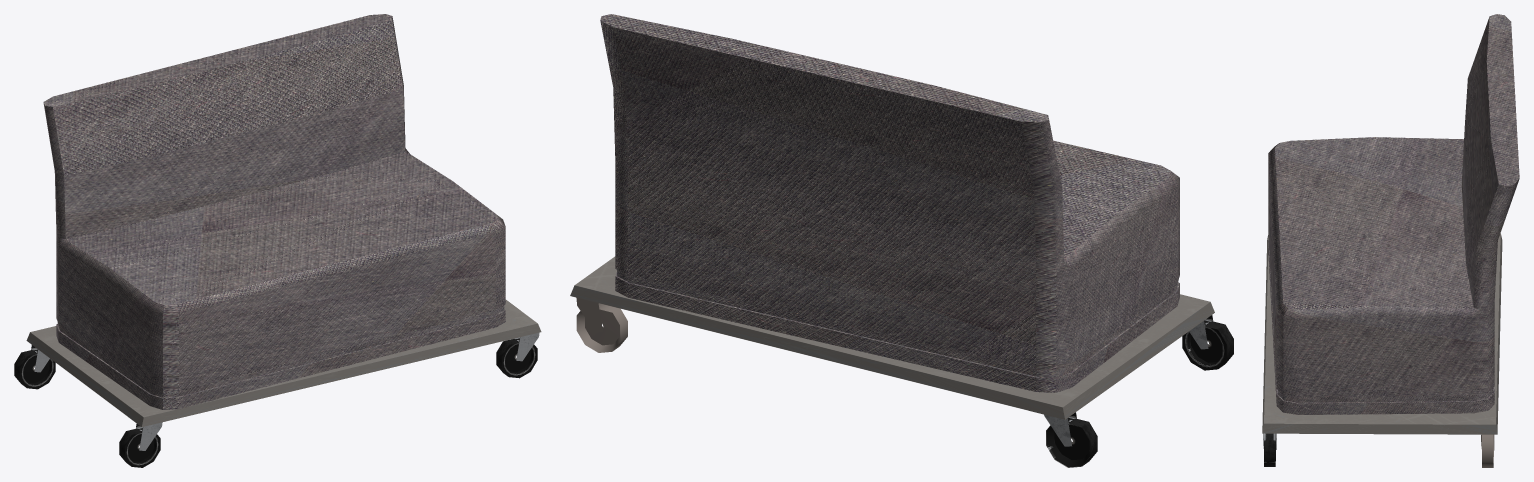
Rendered from sofa 3.fbx.
The picture shows the model from 3 angles, left to right: view 1: azimuth 30°, elevation 25°; view 2: azimuth 150°, elevation 25°; view 3: azimuth 270°, elevation 25°; orthographic projection. The views are drawn at different scales.
Parts seen in each view (by area): view 1: sofa3; view 2: sofa3; view 3: sofa3.
Part boxes in pixels (box(x1,y1,x2,y2)): sofa3: box(14, 14, 541, 467); sofa3: box(570, 14, 1233, 467); sofa3: box(1262, 14, 1519, 467).
Size of the model in its own units: 213 by 135 by 114.
Materials: 2 (2 with a texture image).
